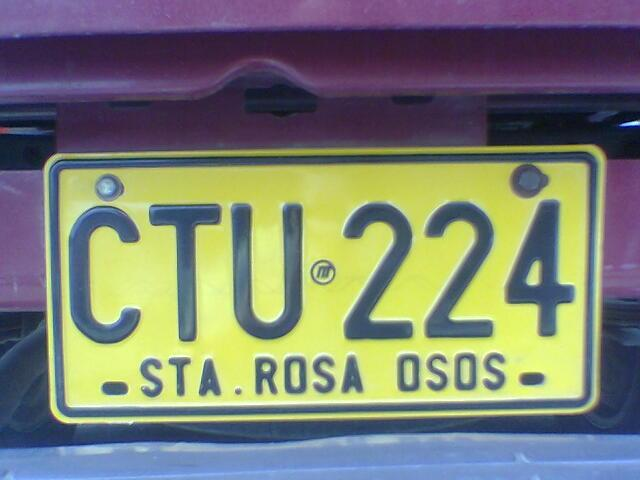placas: (36, 136, 608, 432)
